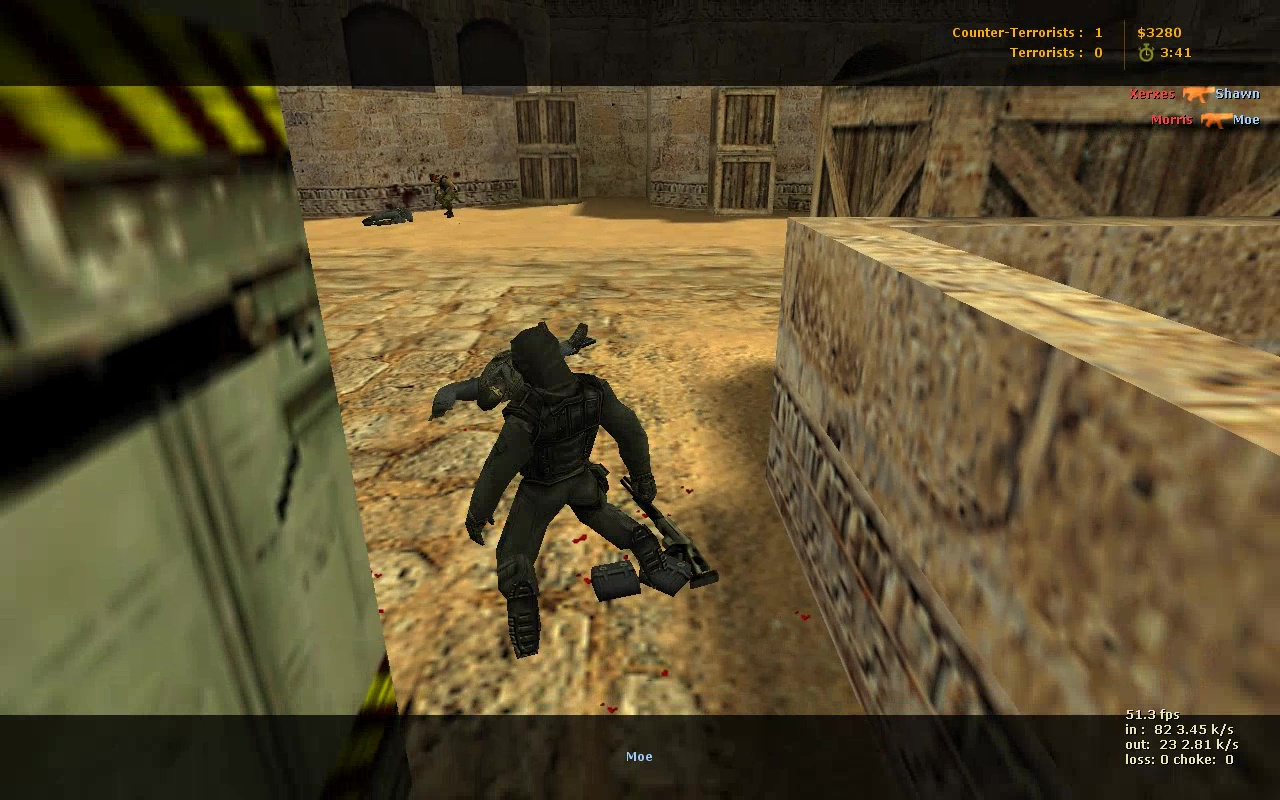ct: (473, 329, 697, 658)
dead: (414, 325, 599, 418), (361, 209, 414, 226)
terr1: (430, 172, 463, 224)
